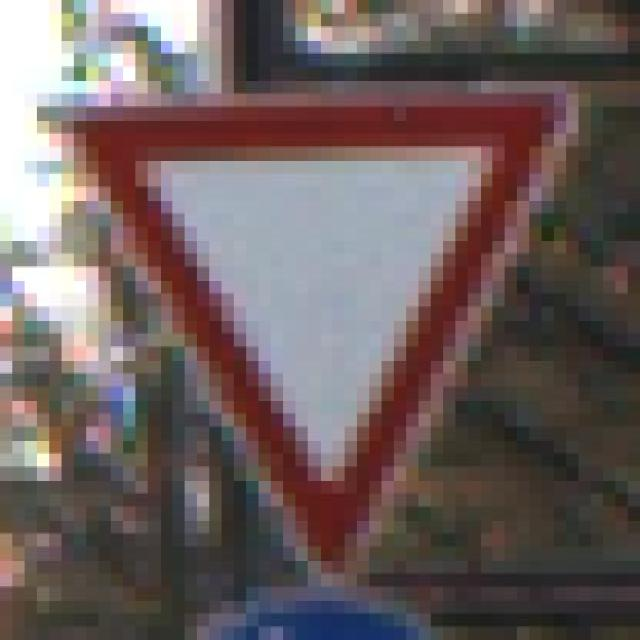Give Way: (37, 66, 615, 574)
